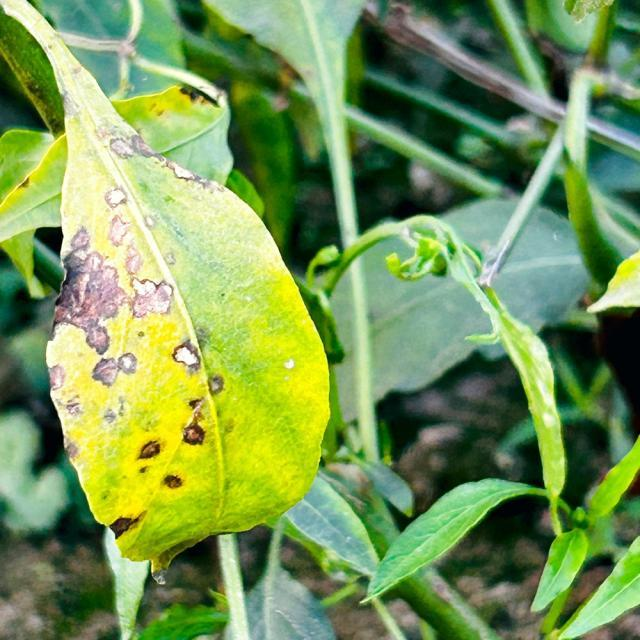Bercak Daun Serkospora: (0, 0, 332, 580)
